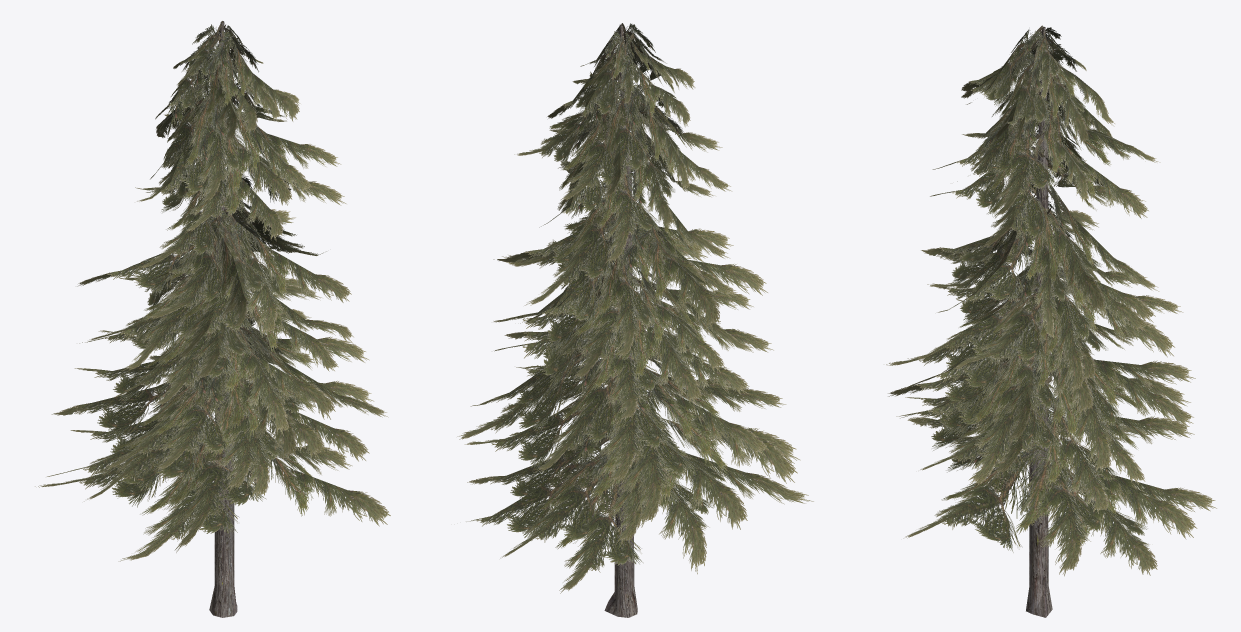
The model's file is arvore.obj.
3 renders of one model, left to right at view 1: azimuth 30°, elevation 25°; view 2: azimuth 150°, elevation 25°; view 3: azimuth 270°, elevation 25°, orthographic.
Parts seen in each view (by area): view 1: Object_4.2976; view 2: Object_4.2976; view 3: Object_4.2976.
Part boxes in pixels (<box>): Object_4.2976: <box>35,21,390,617</box>; Object_4.2976: <box>457,23,813,617</box>; Object_4.2976: <box>886,25,1216,617</box>.
Size of the model in its own units: 5.56 by 9.96 by 5.56.
Materials: 1 (1 with a texture image).
